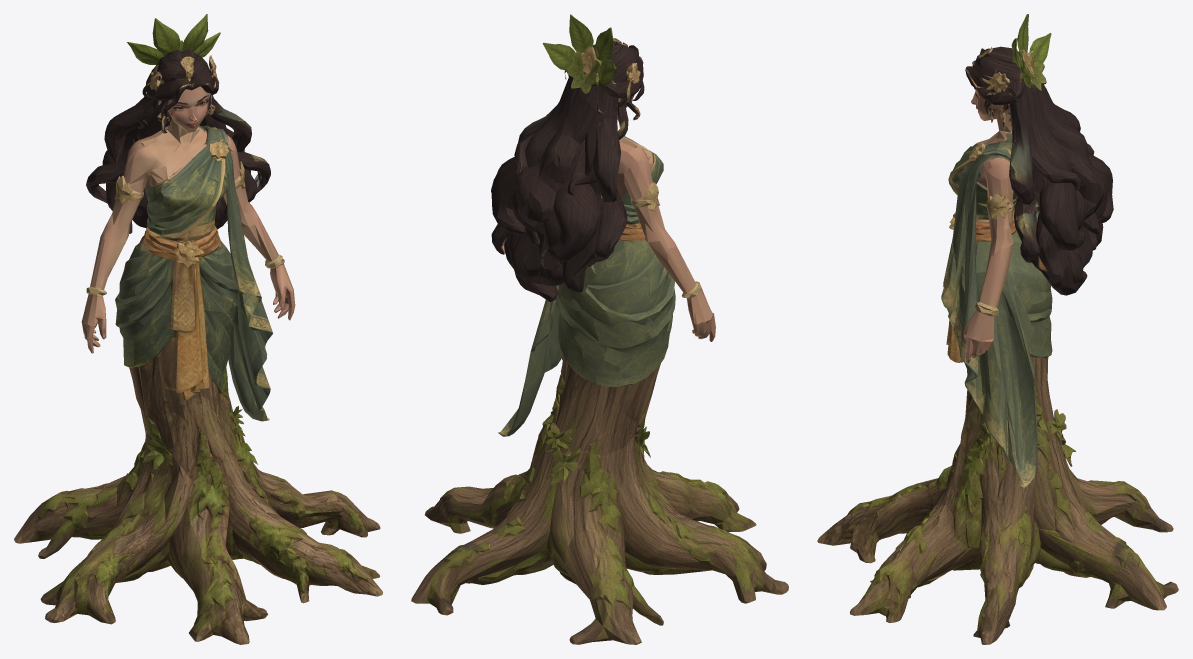
File: takian.glb
3 views of the same model, side by side, from view 1: azimuth 30°, elevation 25°; view 2: azimuth 150°, elevation 25°; view 3: azimuth 270°, elevation 25° (orthographic). The views are drawn at different scales.
Size of the model in its own units: 1.26 by 1.9 by 1.16.
Materials: 1 (1 with a texture image).
